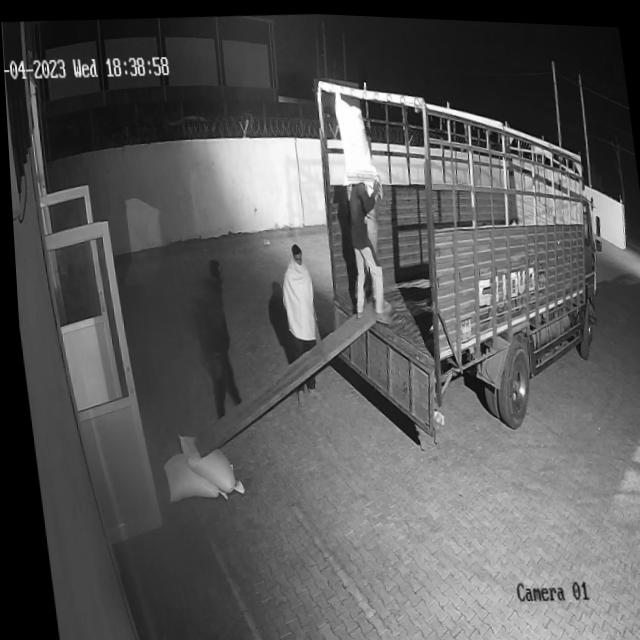sack: (172, 429, 238, 495), (330, 86, 374, 181), (156, 446, 219, 501)
